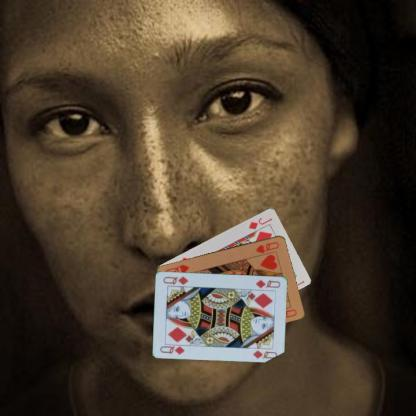Jd: (246, 215, 273, 230)
Qd: (158, 341, 188, 355), (253, 277, 281, 289)
Qh: (253, 239, 280, 254)
